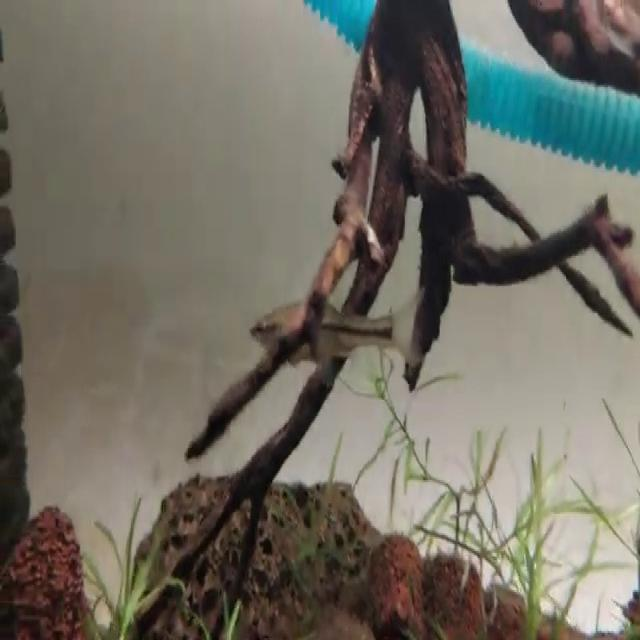Cakil Baligi: (250, 276, 422, 376)
